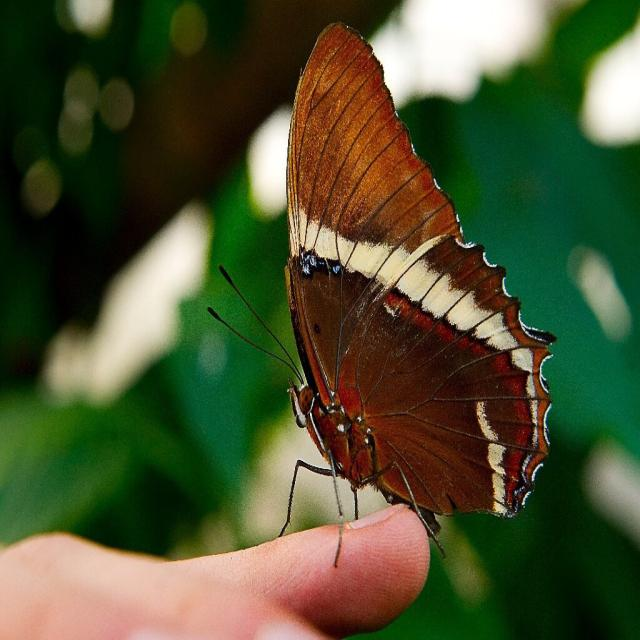butterfly: (226, 17, 564, 533)
